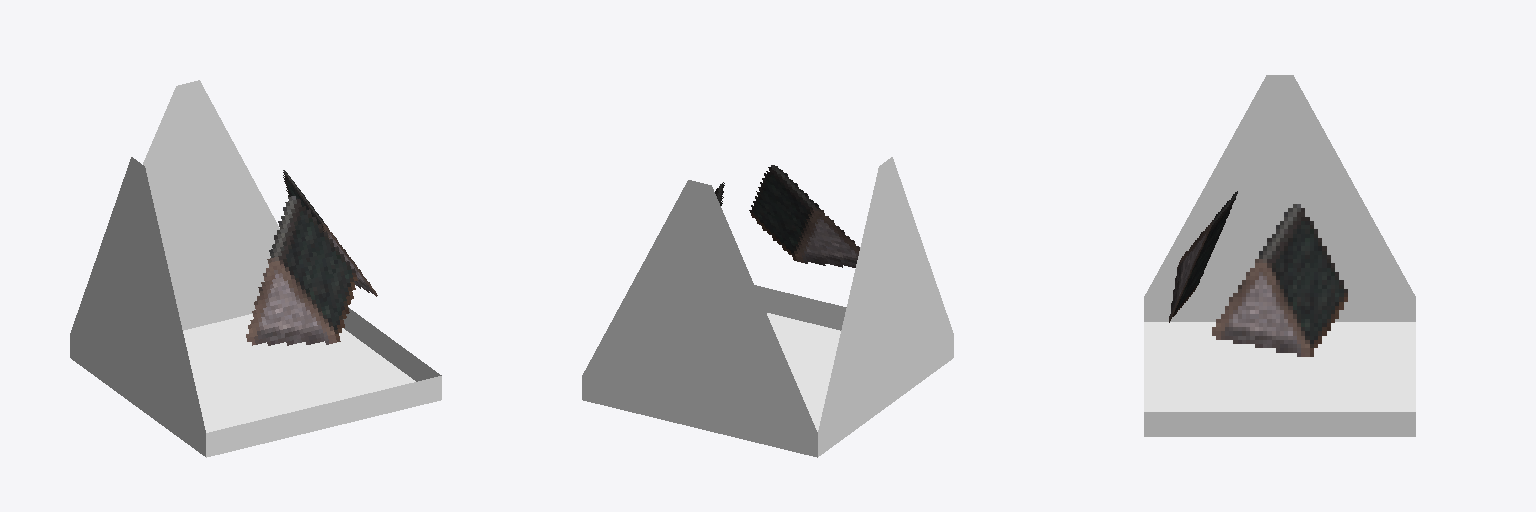
3 views of the same model, side by side, from view 1: azimuth 30°, elevation 25°; view 2: azimuth 150°, elevation 25°; view 3: azimuth 270°, elevation 25° (orthographic).
Parts seen in each view (by area): view 1: roof-corner; view 2: roof-corner; view 3: roof-corner.
Part boxes in pixels (x1,y1,x2,y2): roof-corner: (70, 80, 441, 457); roof-corner: (582, 157, 953, 457); roof-corner: (1144, 75, 1415, 436).
Size of the model in its own units: 1 by 1 by 1.
Materials: 4 (1 with a texture image).